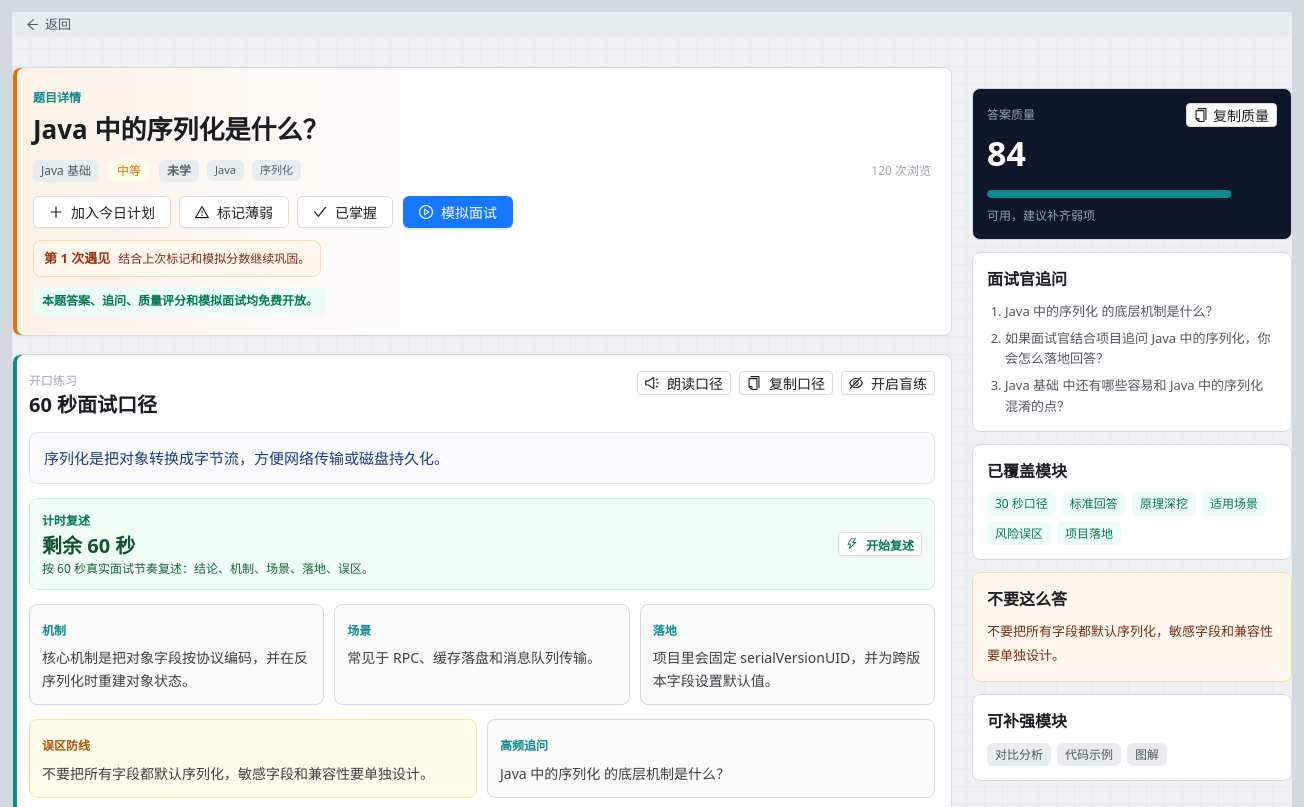
Test: QuestionDetail › hides the answer text during blind rehearsal and restores it afterwards
This screenshot has width=1304, height=807.
Expected: the text "序列化是把对象转换成字节流，方便网络传输或磁盘持久化。" is shown, [29,432,935,484]
Expected: the text "不要把所有字段都默认序列化，敏感字段和兼容性要单独设计。" below "误区防线" is shown, [42,764,434,782]
Step 1. Click the button "开启盲练" → coordinates (888, 383), box [841,371,935,395]
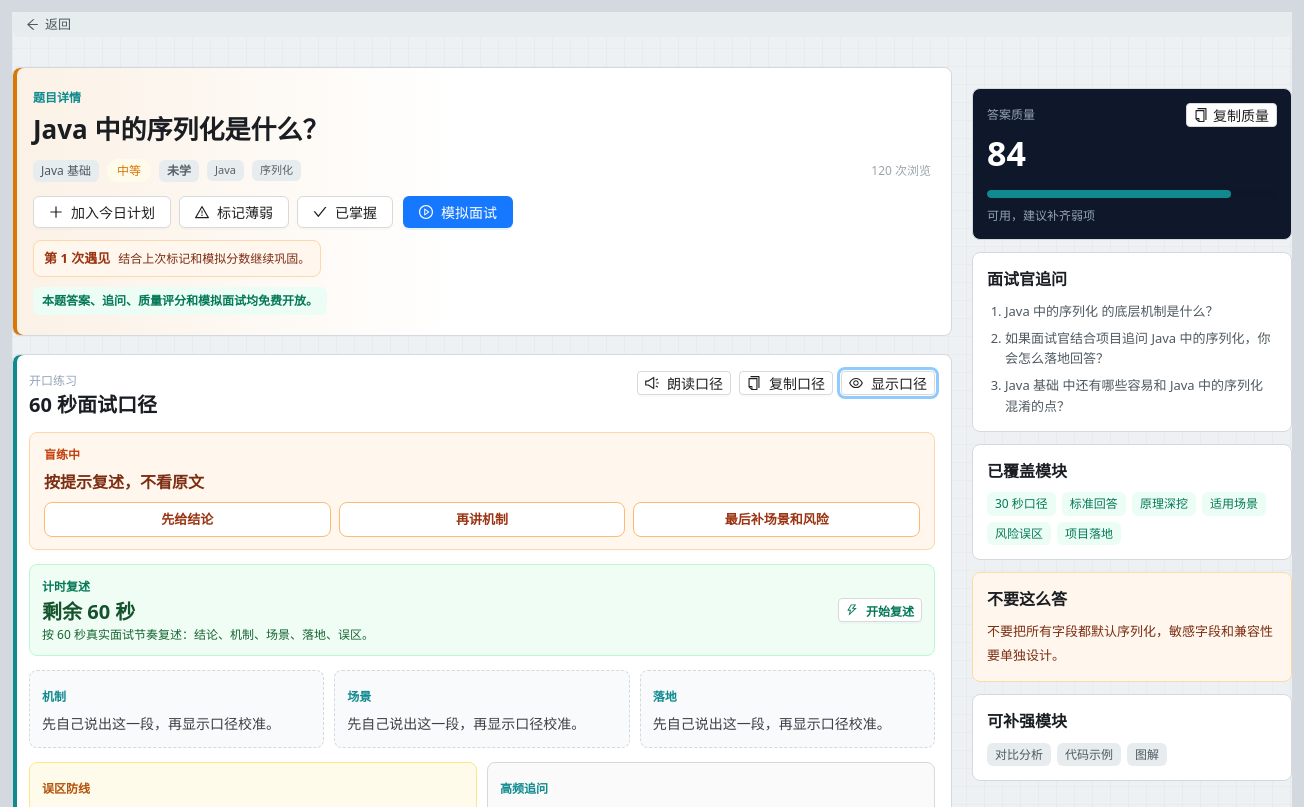
Expected: the text "盲练中" is shown, [44,446,80,463]
Expected: the text "按提示复述，不看原文" is shown, [44,471,204,493]
Expected: the list item "先给结论" is shown, [44,502,331,537]
Step 2. Click the button "显示口径" → coordinates (888, 383), box [841,371,935,395]
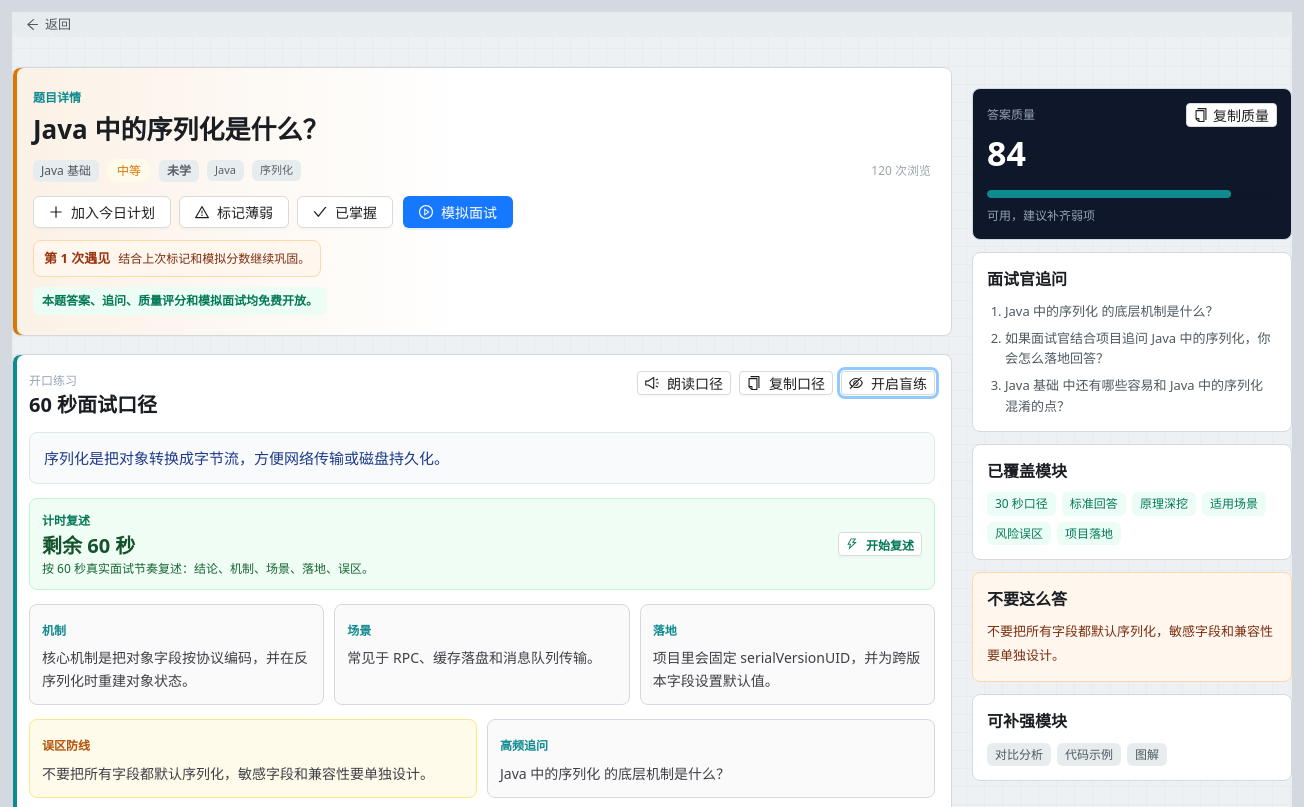
Expected: the text "序列化是把对象转换成字节流，方便网络传输或磁盘持久化。" is shown, [29,432,935,484]
Expected: the text "不要把所有字段都默认序列化，敏感字段和兼容性要单独设计。" below "误区防线" is shown, [42,764,434,782]
Expected: the text "盲练中" is gone
